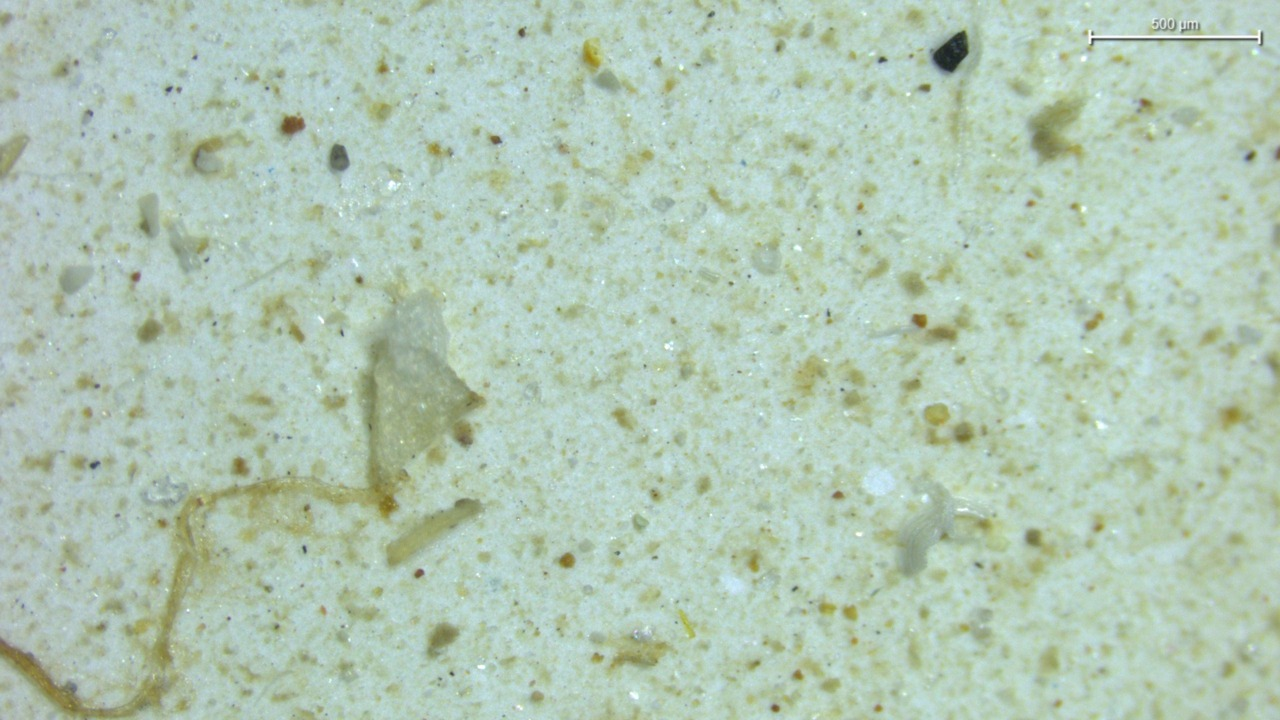microplastic_fragment: (370, 294, 478, 483), (897, 480, 955, 574), (137, 193, 159, 237), (59, 265, 93, 293), (194, 146, 222, 173)
